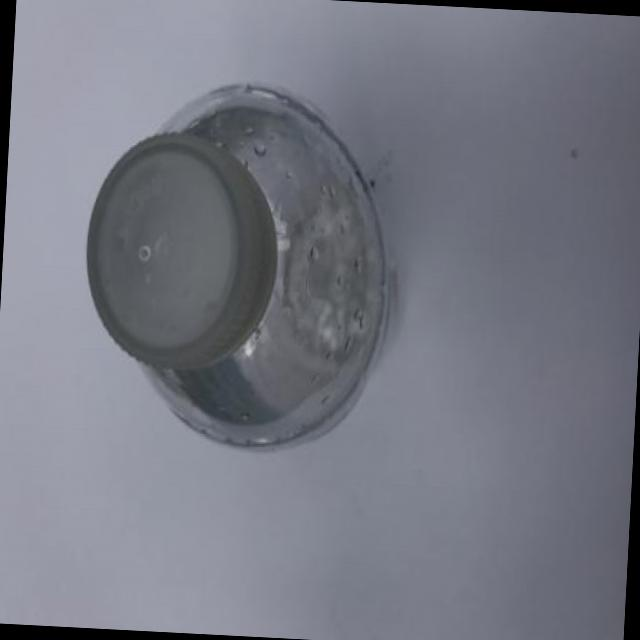Recycle: (69, 67, 404, 458)
